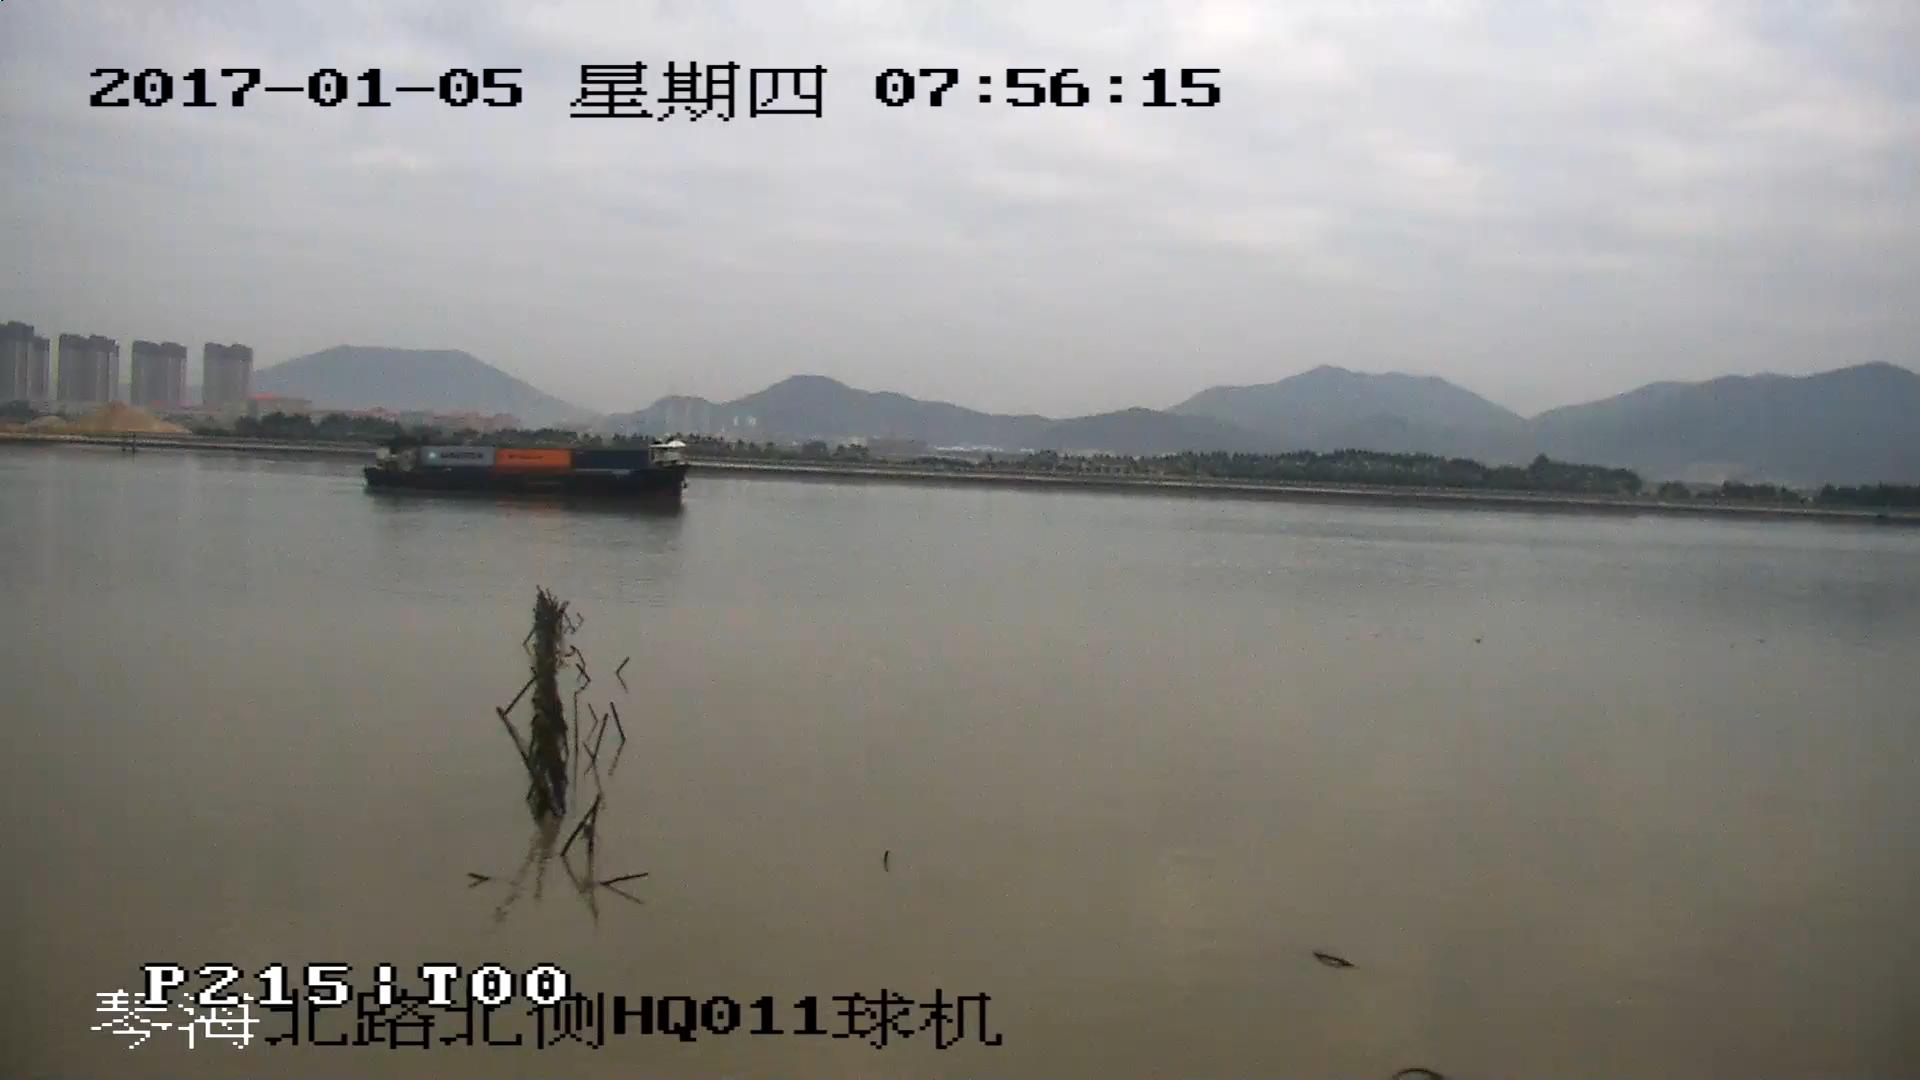container ship: (367, 439, 690, 507)
